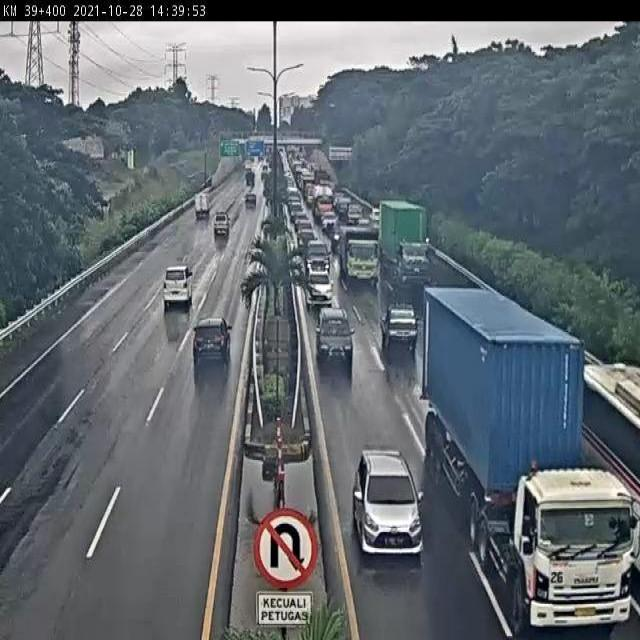big truck: (426, 287, 640, 636), (379, 203, 429, 281), (337, 224, 374, 277)
car: (351, 450, 419, 550), (317, 305, 356, 360), (192, 317, 233, 364), (380, 302, 418, 349), (163, 267, 194, 308), (305, 269, 333, 308), (304, 237, 329, 268), (213, 209, 231, 236), (297, 230, 316, 250)
small truck: (191, 190, 212, 222)
